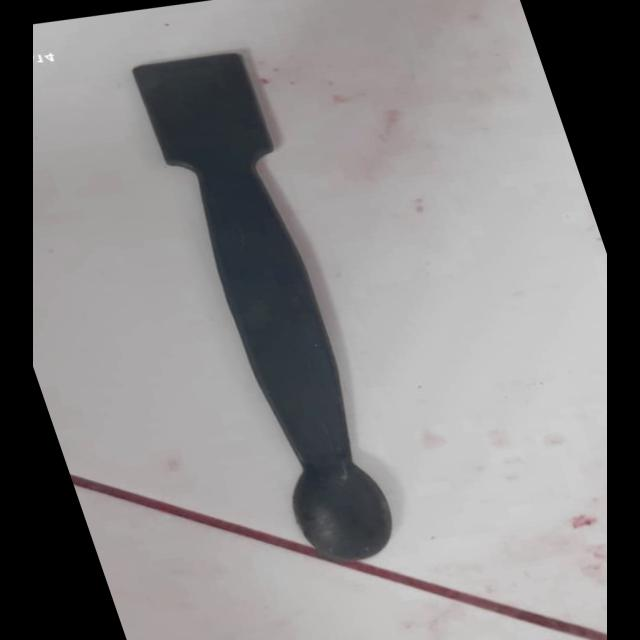Spatula: (128, 48, 440, 578)
